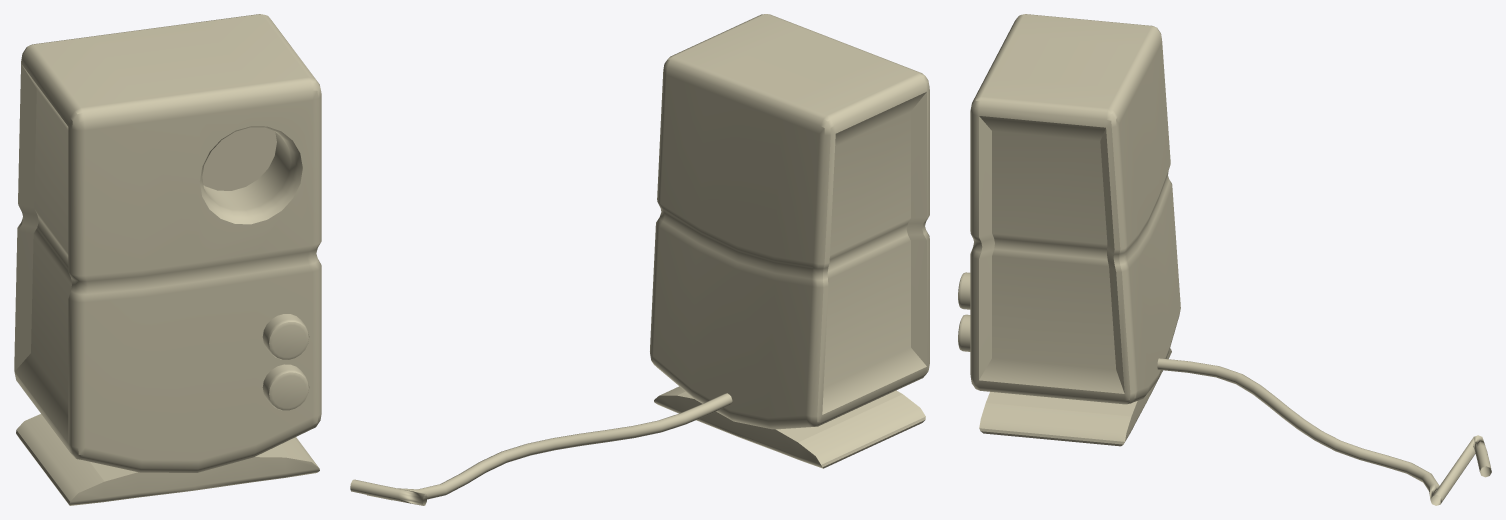
File: Speaker.fbx
3 views of the same model, side by side, from view 1: azimuth 30°, elevation 25°; view 2: azimuth 150°, elevation 25°; view 3: azimuth 270°, elevation 25° (orthographic). The views are drawn at different scales.
Parts seen in each view (by area): view 1: polySurface8; view 2: polySurface8; view 3: polySurface8.
Boxes of the visible parts, x1,y1,x2,y2 form: polySurface8: [14, 14, 321, 505]; polySurface8: [350, 14, 929, 505]; polySurface8: [958, 14, 1491, 505].
Bounding box in the file's own units: 0.7377 × 0.7102 × 1.03.
